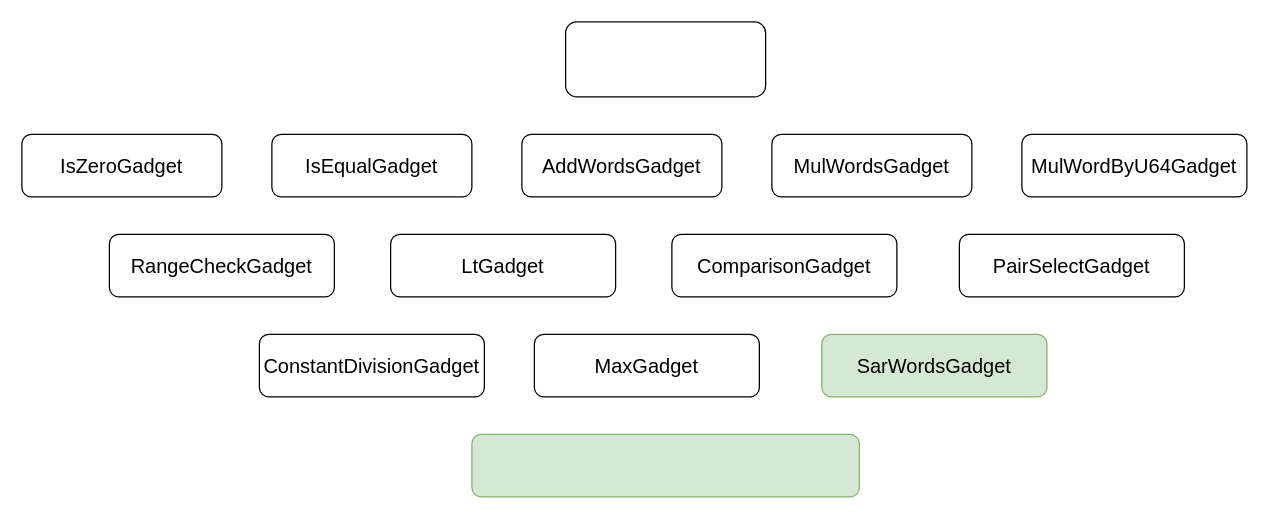
The diagram is 1269 pixels wide and 519 high, and some of its shapes have lost their labels. The box of each missing label's shape, as (x1, y1, x2, y2) in pixels:
generate_lagrange_base_polynomial: (471, 433, 859, 497)
Math Gadgets: (564, 21, 766, 97)
